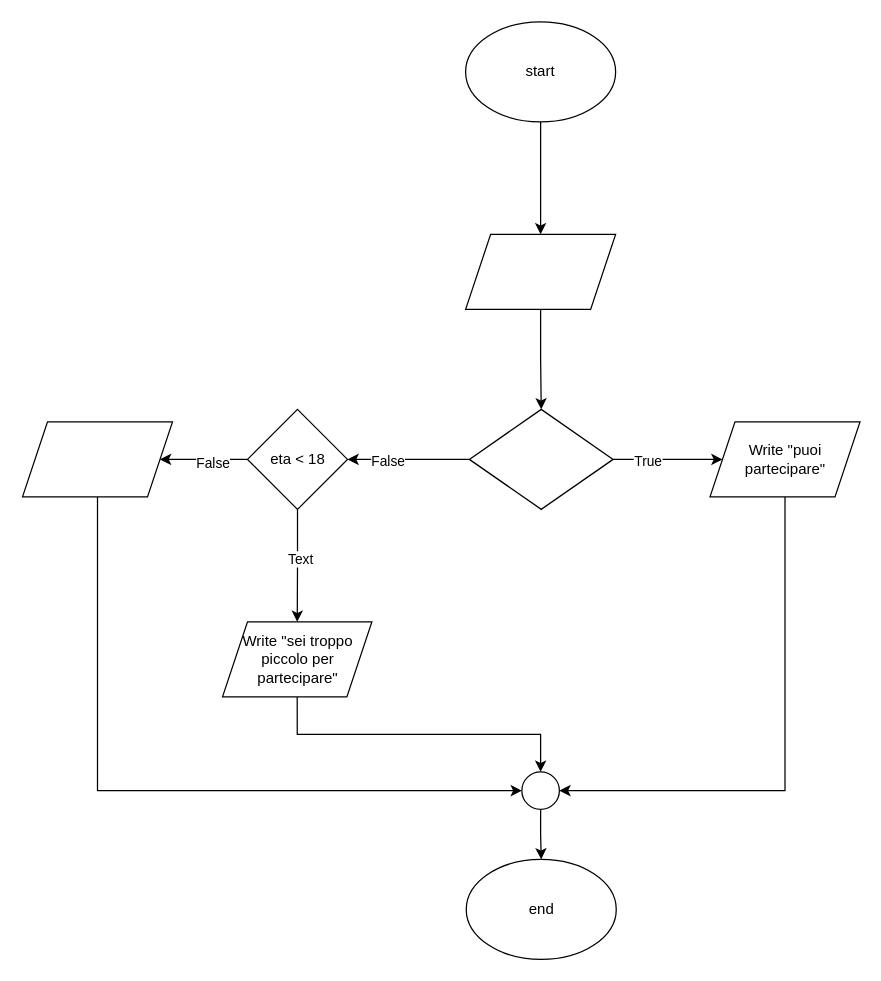
Image size: 881x981. Some labels were removed from this diagram. Here are the shapes that lost their labels. From the top down, the centre of each, then its label:
pixel 540 271: read eta
pixel 96 459: Write "sei troppo grande per partecipare"
pixel 540 458: eta >= 18 AND eta <= 65
